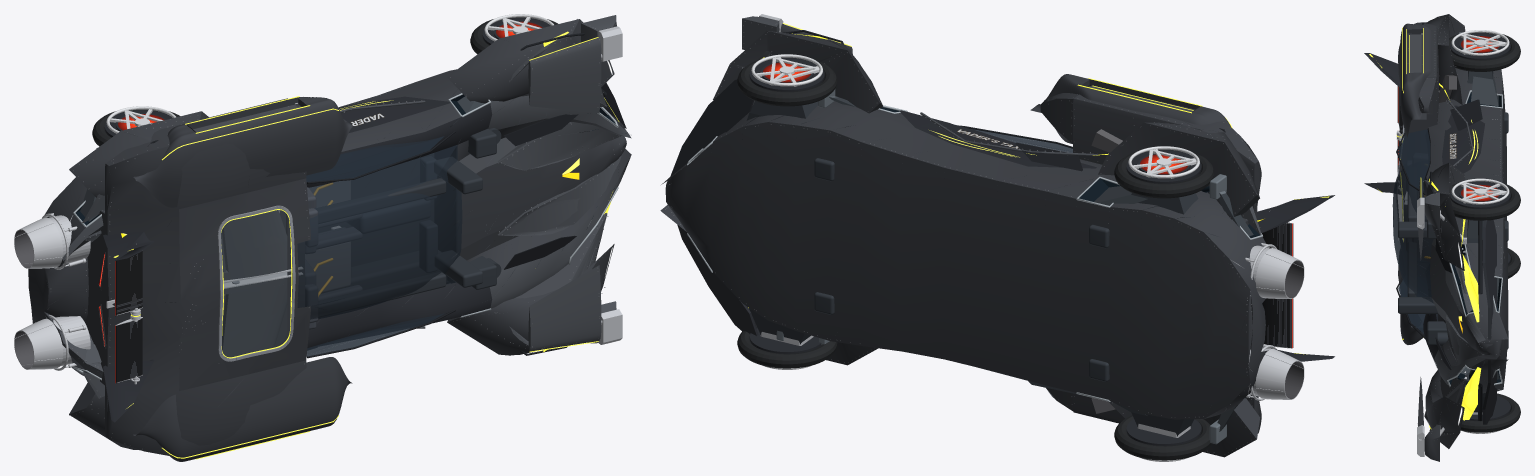
The model's file is phantom-a10b-visual.glb.
3 views of the same model, side by side, from view 1: azimuth 30°, elevation 25°; view 2: azimuth 150°, elevation 25°; view 3: azimuth 270°, elevation 25° (orthographic). The views are drawn at different scales.
Parts seen in each view (by area): view 1: PHANTOM_A8_INTEGRATED_DUCTED_FACETED_CFRP_HULL, VTX_VISUAL_WING_CASSETTE_COWLS, A10_SLEEVE_CARRY_THROUGH_BOX, PHANTOM_FRONT_RIGHT_WIDEBODY_ANGULAR_FENDER, A10_CANARD_R_ALL_MOVING_BLADE, A10_CANARD_L_ALL_MOVING_BLADE, A10_WING_L_PANEL_CFRP_TORSION_BOX, TUB_001_CFRP_NOMEX_SANDWICH_FLOOR, A10_WING_R_PANEL_CFRP_TORSION_BOX, PHANTOM_FRONT_LEFT_WIDEBODY_ANGULAR_FENDER, PHANTOM_LEFT_SPEAR_BONNET_RIDGE, VTX_VISUAL_DRS_CARBON_BLADES (+29 smaller); view 2: PHANTOM_A8_INTEGRATED_DUCTED_FACETED_CFRP_HULL, PHANTOM_REAR_RIGHT_WIDEBODY_ANGULAR_FENDER, PHANTOM_FRONT_RIGHT_WIDEBODY_ANGULAR_FENDER, VTX_VISUAL_WING_CASSETTE_COWLS, PHANTOM_RIGHT_RAPTOR_NOSE_SPLITTER, PHANTOM_RIGHT_BLACK_INVERTED_SPEAR_DOOR, VTX_VISUAL_DRS_CARBON_BLADES, WHEEL_FR_CLOSED_TYRE, WHEEL_RR_CLOSED_TYRE, WHEEL_RL_CLOSED_TYRE, PHANTOM_REAR_LEFT_WIDEBODY_ANGULAR_FENDER, PHANTOM_LEFT_RAPTOR_NOSE_SPLITTER (+14 smaller); view 3: PHANTOM_A8_INTEGRATED_DUCTED_FACETED_CFRP_HULL, VTX_VISUAL_WING_CASSETTE_COWLS, PHANTOM_FRONT_RIGHT_WIDEBODY_ANGULAR_FENDER, PHANTOM_FRONT_LEFT_WIDEBODY_ANGULAR_FENDER, PHANTOM_RIGHT_BLACK_INVERTED_SPEAR_DOOR, PHANTOM_RIGHT_TRIANGULAR_COUPÉ_SIDEGLASS, PHANTOM_REAR_RIGHT_WIDEBODY_ANGULAR_FENDER, PHANTOM_RIGHT_RAPTOR_NOSE_SPLITTER, WHEEL_RR_CLOSED_TYRE, WHEEL_FR_CLOSED_TYRE, WHEEL_FL_CLOSED_TYRE, PHANTOM_LEFT_SPEAR_BONNET_RIDGE (+42 smaller).
Part boxes in pixels (x1,y1,x2,y2): PHANTOM_A8_INTEGRATED_DUCTED_FACETED_CFRP_HULL: [28, 69, 631, 455]; VTX_VISUAL_WING_CASSETTE_COWLS: [133, 97, 352, 461]; A10_SLEEVE_CARRY_THROUGH_BOX: [221, 209, 287, 356]; PHANTOM_FRONT_RIGHT_WIDEBODY_ANGULAR_FENDER: [447, 19, 614, 103]; A10_CANARD_R_ALL_MOVING_BLADE: [528, 37, 601, 113]; A10_CANARD_L_ALL_MOVING_BLADE: [528, 265, 601, 351]; A10_WING_L_PANEL_CFRP_TORSION_BOX: [222, 277, 287, 358]; TUB_001_CFRP_NOMEX_SANDWICH_FLOOR: [318, 153, 433, 266]; A10_WING_R_PANEL_CFRP_TORSION_BOX: [222, 210, 287, 280]; PHANTOM_FRONT_LEFT_WIDEBODY_ANGULAR_FENDER: [447, 244, 614, 355]; PHANTOM_LEFT_SPEAR_BONNET_RIDGE: [498, 156, 621, 235]; VTX_VISUAL_DRS_CARBON_BLADES: [115, 251, 142, 383]; PHANTOM_A8_INTEGRATED_DUCTED_FACETED_CFRP_HULL: [660, 85, 1276, 433]; PHANTOM_REAR_RIGHT_WIDEBODY_ANGULAR_FENDER: [1098, 122, 1259, 219]; PHANTOM_FRONT_RIGHT_WIDEBODY_ANGULAR_FENDER: [713, 30, 882, 127]; VTX_VISUAL_WING_CASSETTE_COWLS: [1030, 74, 1241, 151]; PHANTOM_RIGHT_RAPTOR_NOSE_SPLITTER: [670, 79, 753, 176]; PHANTOM_RIGHT_BLACK_INVERTED_SPEAR_DOOR: [900, 110, 1096, 168]; VTX_VISUAL_DRS_CARBON_BLADES: [1262, 222, 1293, 347]; WHEEL_FR_CLOSED_TYRE: [737, 57, 837, 106]; WHEEL_RR_CLOSED_TYRE: [1114, 149, 1214, 198]; WHEEL_RL_CLOSED_TYRE: [1114, 415, 1211, 460]; PHANTOM_REAR_LEFT_WIDEBODY_ANGULAR_FENDER: [1109, 398, 1260, 457]; PHANTOM_LEFT_RAPTOR_NOSE_SPLITTER: [677, 225, 758, 335]; PHANTOM_A8_INTEGRATED_DUCTED_FACETED_CFRP_HULL: [1392, 22, 1508, 393]; VTX_VISUAL_WING_CASSETTE_COWLS: [1400, 23, 1432, 344]; PHANTOM_FRONT_RIGHT_WIDEBODY_ANGULAR_FENDER: [1425, 163, 1465, 270]; PHANTOM_FRONT_LEFT_WIDEBODY_ANGULAR_FENDER: [1425, 366, 1464, 448]; PHANTOM_RIGHT_BLACK_INVERTED_SPEAR_DOOR: [1442, 105, 1484, 173]; PHANTOM_RIGHT_TRIANGULAR_COUPÉ_SIDEGLASS: [1398, 129, 1430, 190]; PHANTOM_REAR_RIGHT_WIDEBODY_ANGULAR_FENDER: [1426, 14, 1465, 104]; PHANTOM_RIGHT_RAPTOR_NOSE_SPLITTER: [1482, 220, 1496, 339]; WHEEL_RR_CLOSED_TYRE: [1449, 32, 1520, 71]; WHEEL_FR_CLOSED_TYRE: [1446, 181, 1520, 220]; WHEEL_FL_CLOSED_TYRE: [1461, 393, 1520, 432]; PHANTOM_LEFT_SPEAR_BONNET_RIDGE: [1445, 316, 1484, 363].
Bounding box in the file's own units: 5.09 × 2.6 × 1.4.
43 materials, 5 textured.
